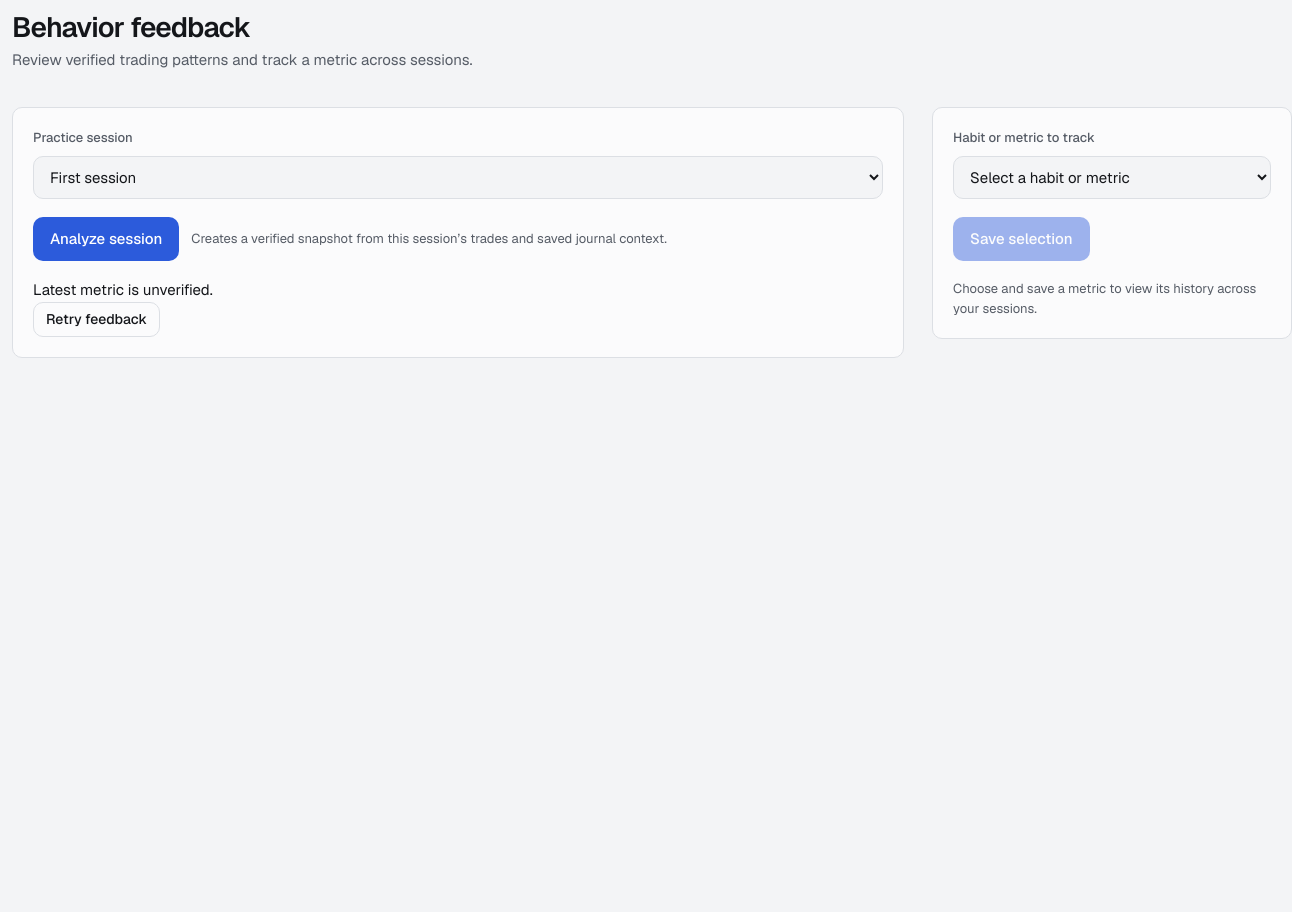
Test: feedback workflow › shows failed verification as an error and lets users analyze again
The image size is (1292, 912).
expect the text "Latest metric is unverified." is shown: met, box [33,280,213,299]
Click the button "Analyze session".
click(106, 239)  # box [33,217,179,261]
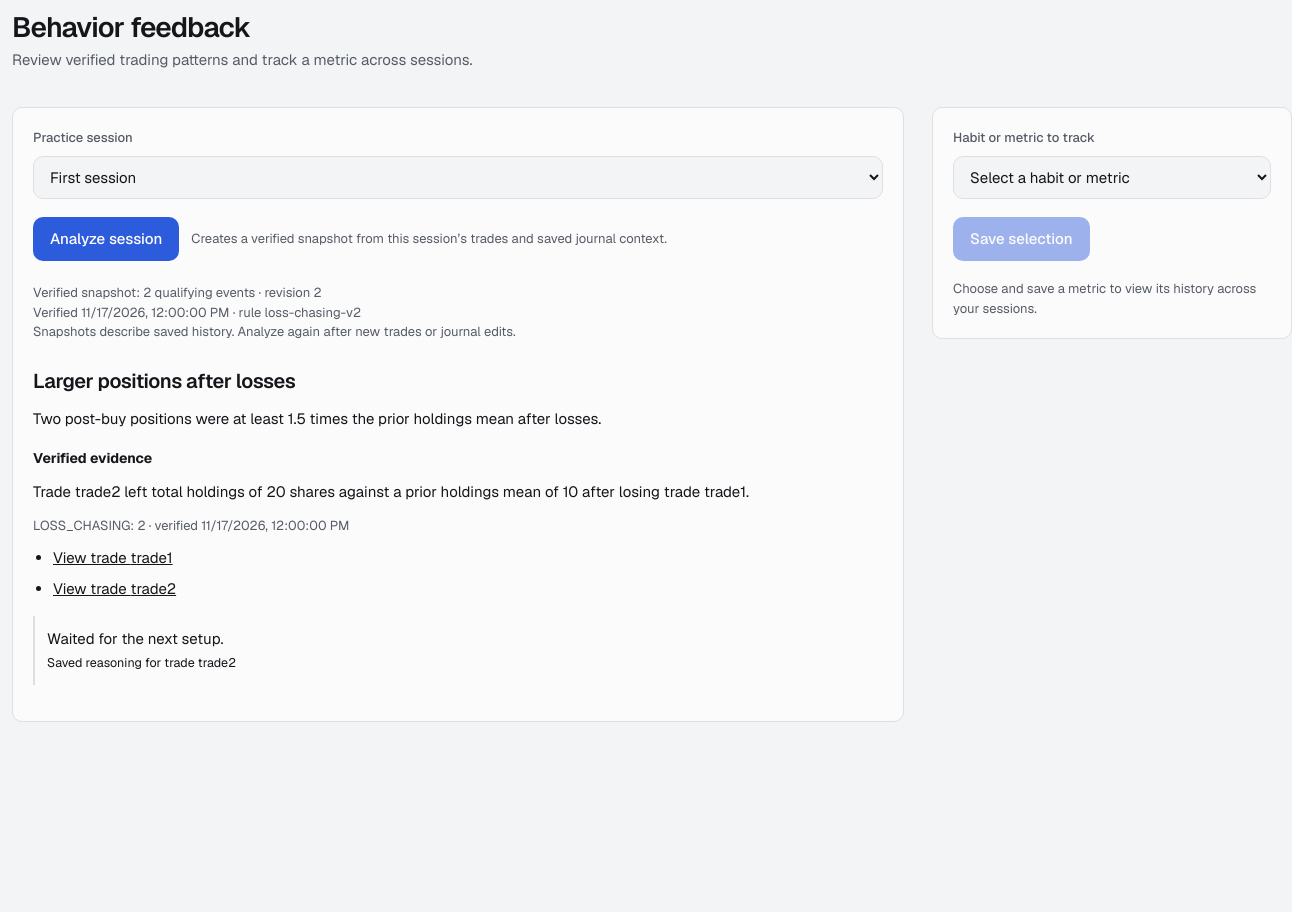
expect the text "Two post-buy positions were at least 1.5 times the prior holdings mean after losses." is shown: met, box [33,409,601,428]
